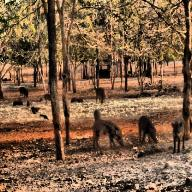boar: (88, 111, 126, 146), (129, 113, 158, 146), (162, 119, 188, 154), (89, 84, 108, 100), (18, 85, 33, 94), (73, 94, 80, 107), (13, 100, 23, 108), (41, 115, 48, 125), (48, 93, 54, 101), (27, 100, 34, 106), (32, 109, 39, 115)
